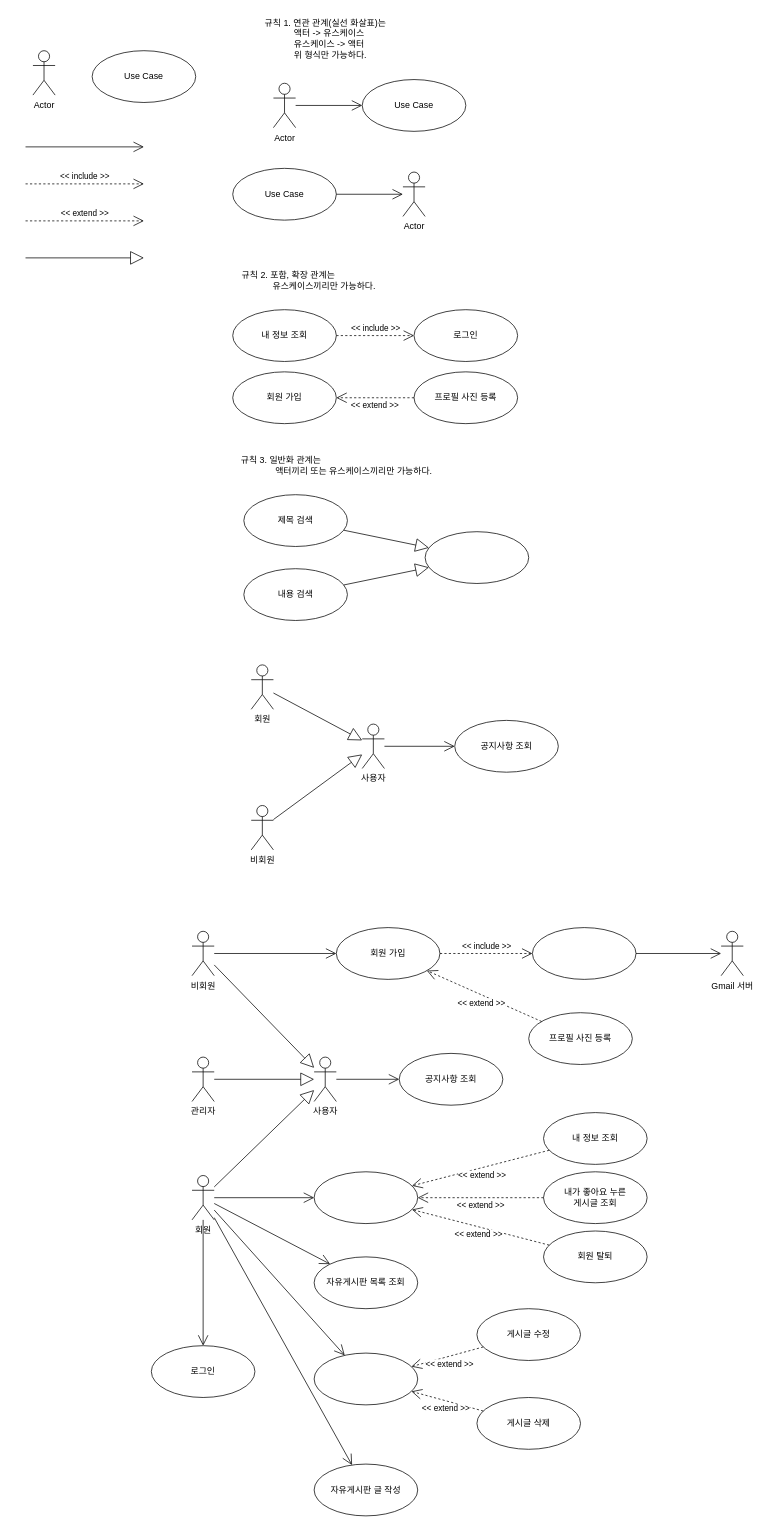
Image size: 766x1529. Some labels were removed from this diagram. The shapes that lost their labels are listed below. From the top down, each one's box as (x1, y1, x2, y2) in pixels, then its label:
(424, 531, 529, 583): 게시글 검색
(532, 927, 636, 979): 이메일 인증
(313, 1171, 418, 1224): 마이페이지
(313, 1352, 418, 1405): 자유게시판 상세 조회
